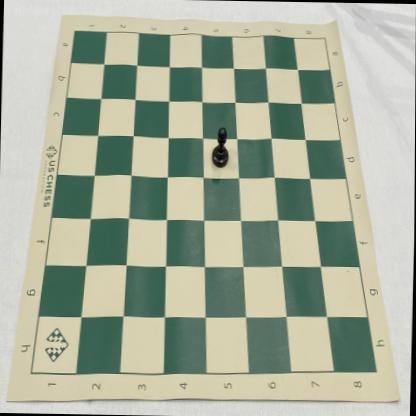black-pawn: (211, 126, 230, 168)
